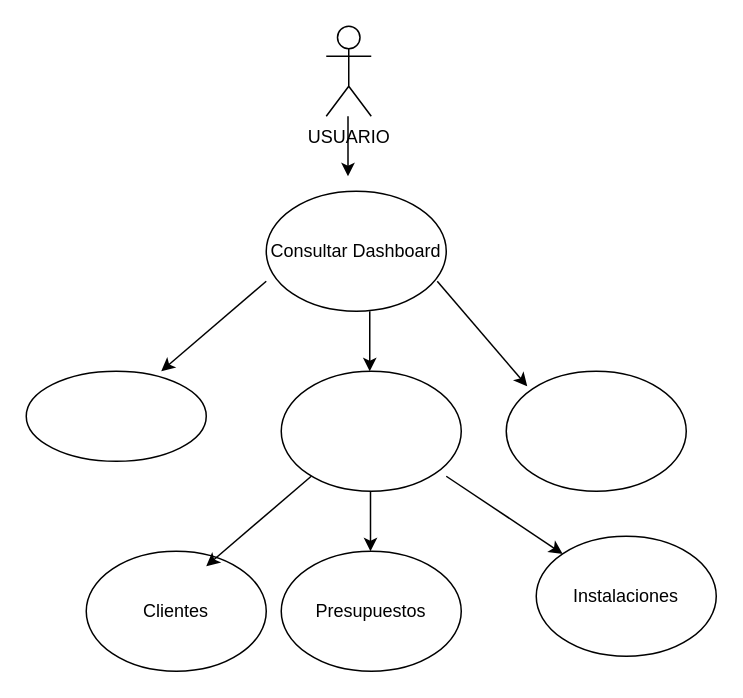
Image size: 743x698. Some labels were removed from this diagram. Here are the shapes that lost their labels. From the top down, the centre of each, then its label:
the point at 115,415: Visualizar resumen general
the point at 370,430: Consultar Destadisticas
the point at 595,430: Acceder a secciones
